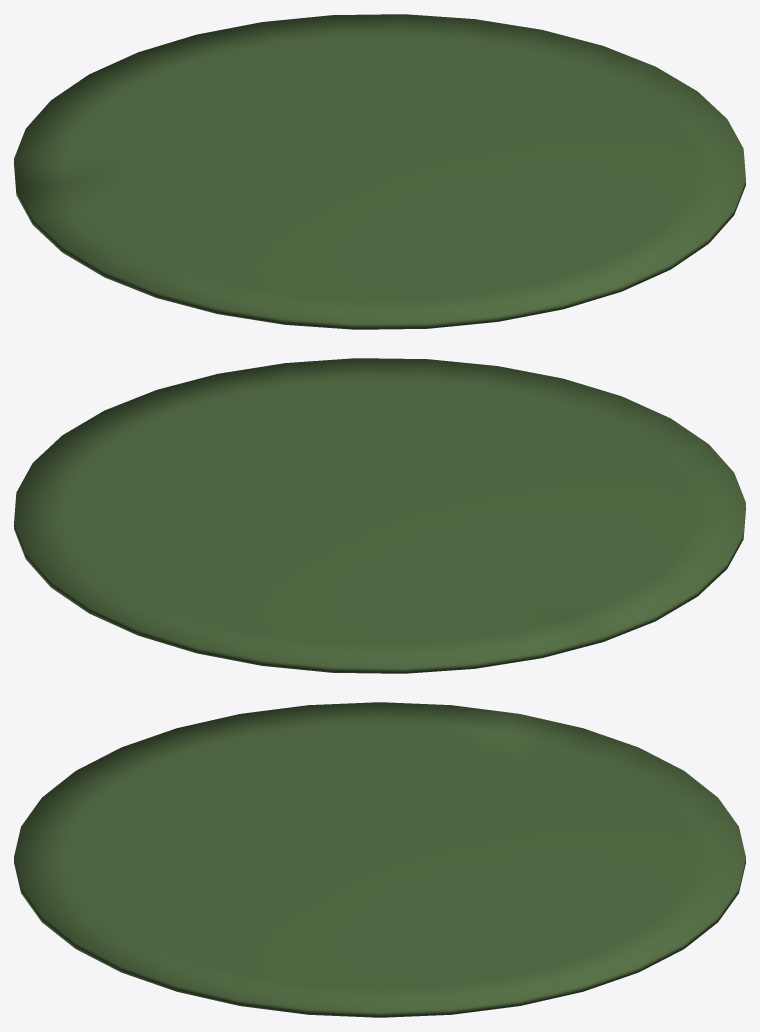
Rendered from socle.fbx.
3 renders of one model, top to bottom at view 1: azimuth 30°, elevation 25°; view 2: azimuth 150°, elevation 25°; view 3: azimuth 270°, elevation 25°, orthographic.
Parts seen in each view (by area): view 1: Circle; view 2: Circle; view 3: Circle.
Part boxes in pixels (box(x1,y1,x2,y2)): Circle: box(14, 14, 745, 329); Circle: box(14, 358, 745, 673); Circle: box(14, 702, 745, 1017).
Size of the model in its own units: 200 by 4.36 by 200.
